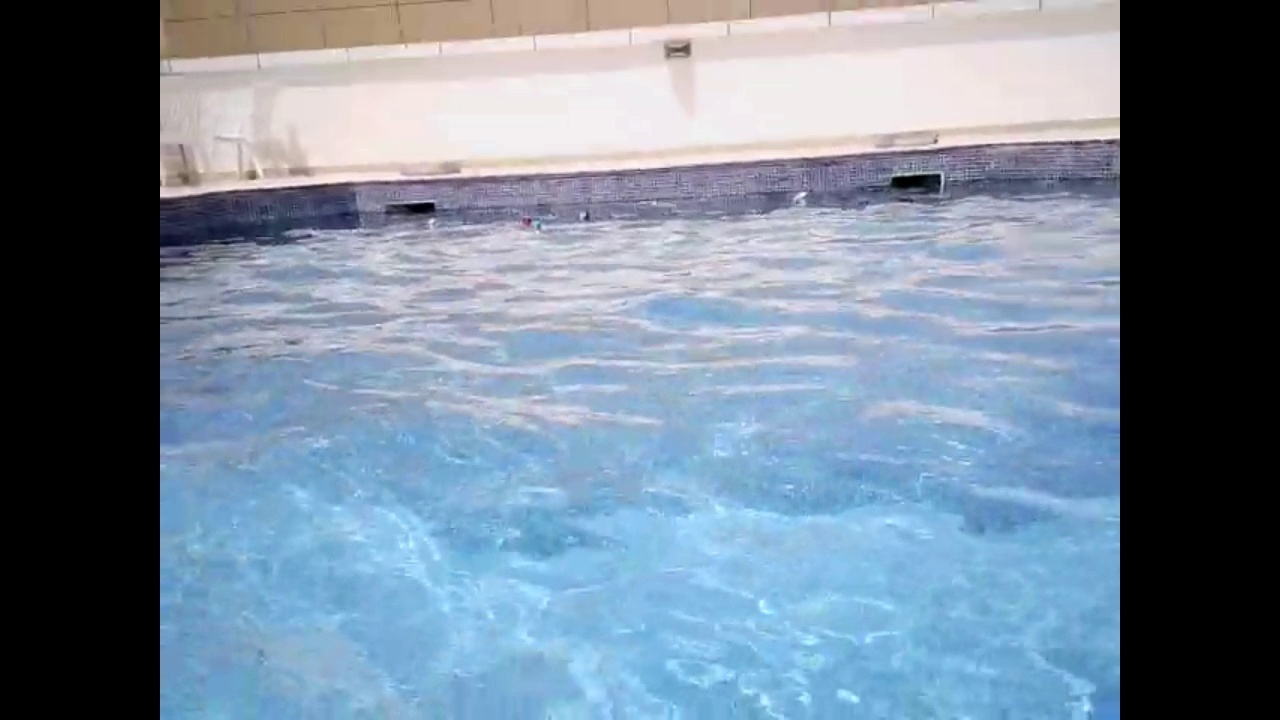debris: (790, 187, 814, 209), (574, 203, 595, 224), (424, 212, 442, 231), (515, 213, 530, 232)
